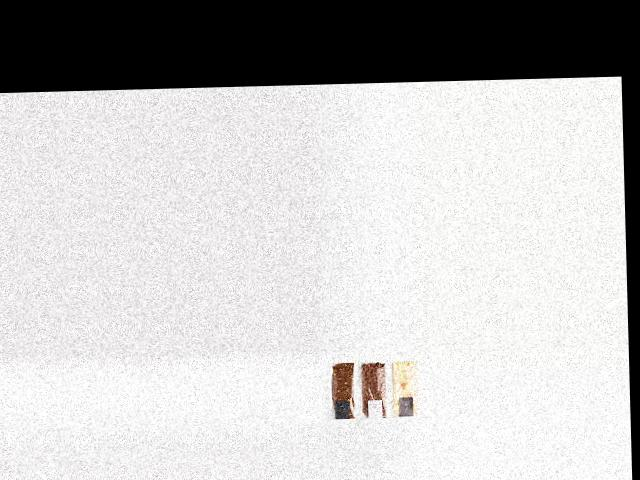chocolate: (326, 359, 354, 419)
